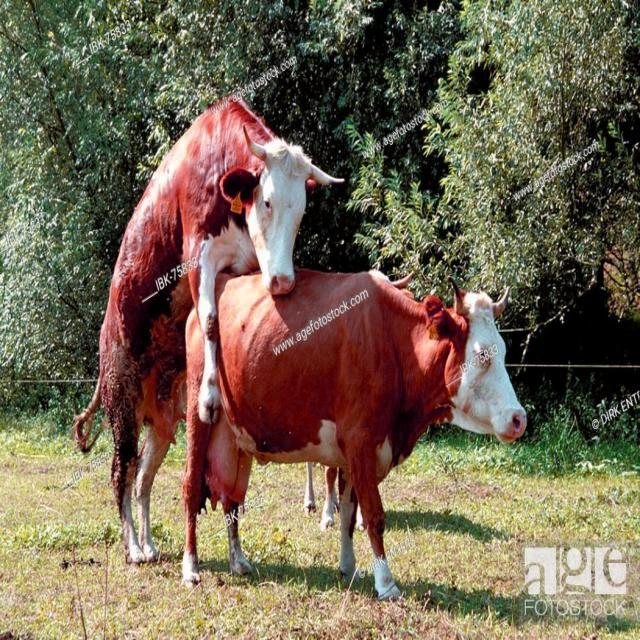cow: (75, 98, 341, 563), (182, 270, 526, 599)
